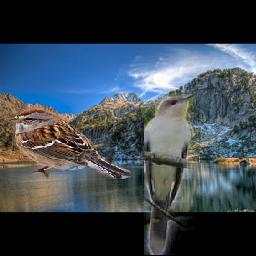Cuckoo: (144, 95, 196, 256)
Sparrow: (3, 107, 131, 179)
